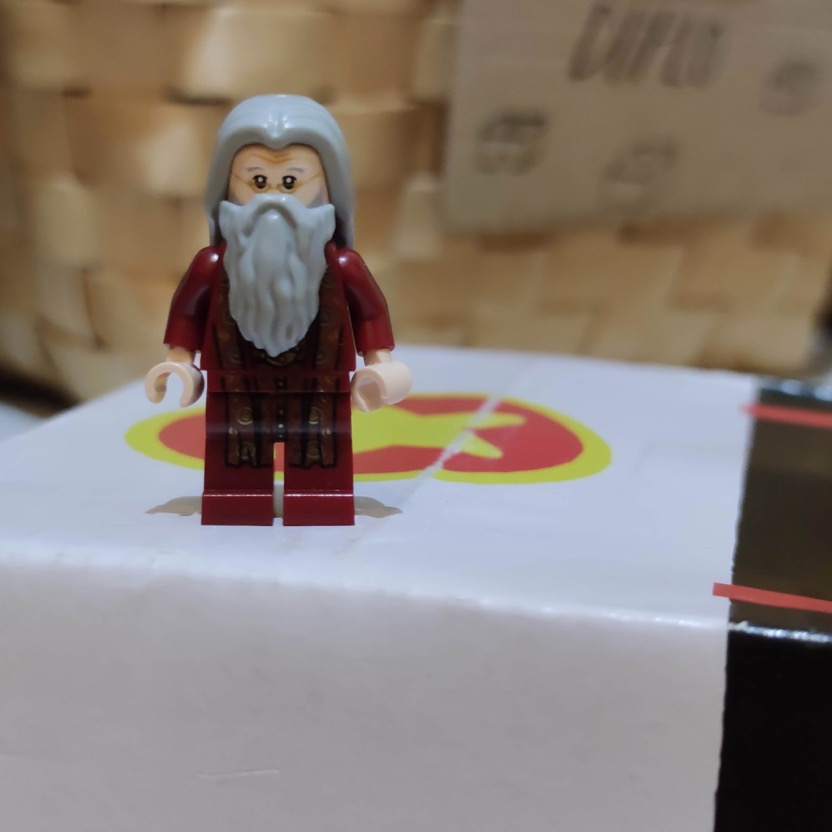lego: (144, 91, 414, 528)
